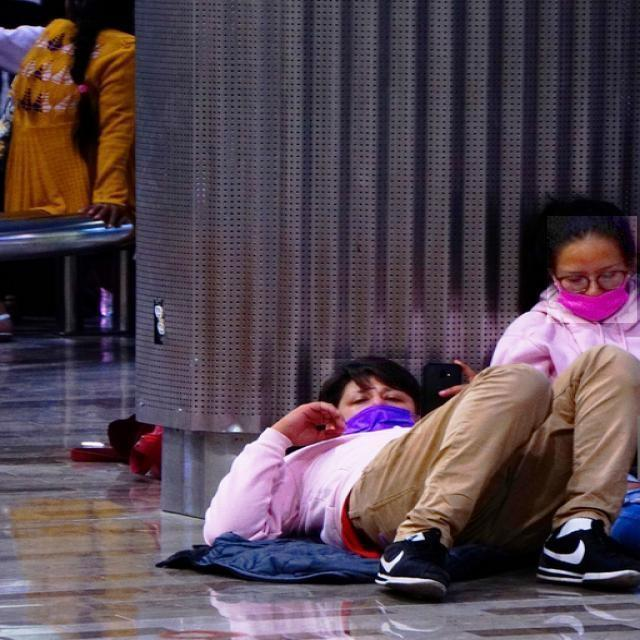hairnet: (548, 265, 638, 320), (326, 388, 417, 434)
